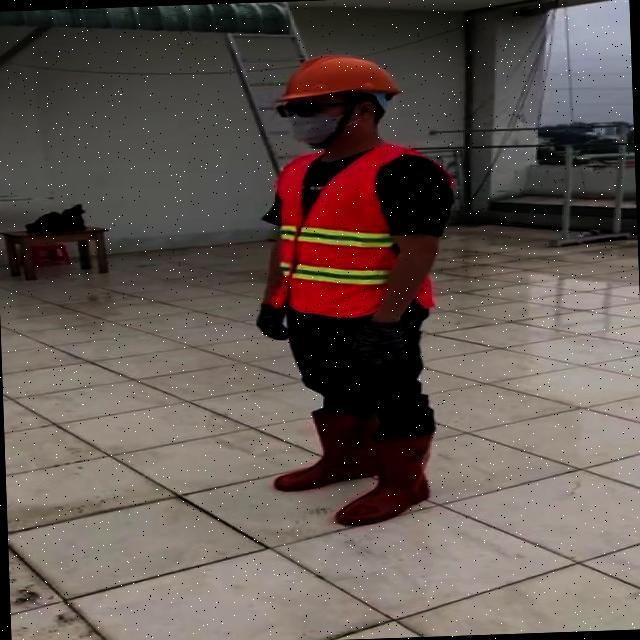boots: (268, 410, 383, 493), (334, 431, 434, 526)
helmet: (269, 48, 406, 102)
vest: (270, 144, 453, 318)
